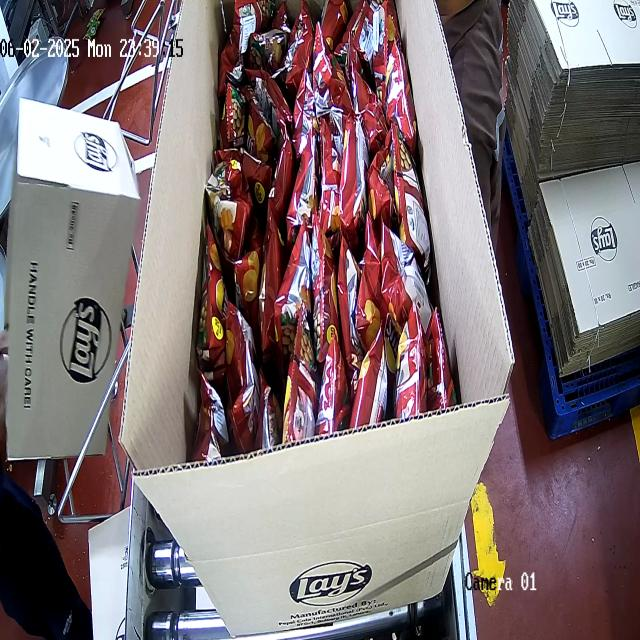MASALA: (186, 0, 428, 466)
